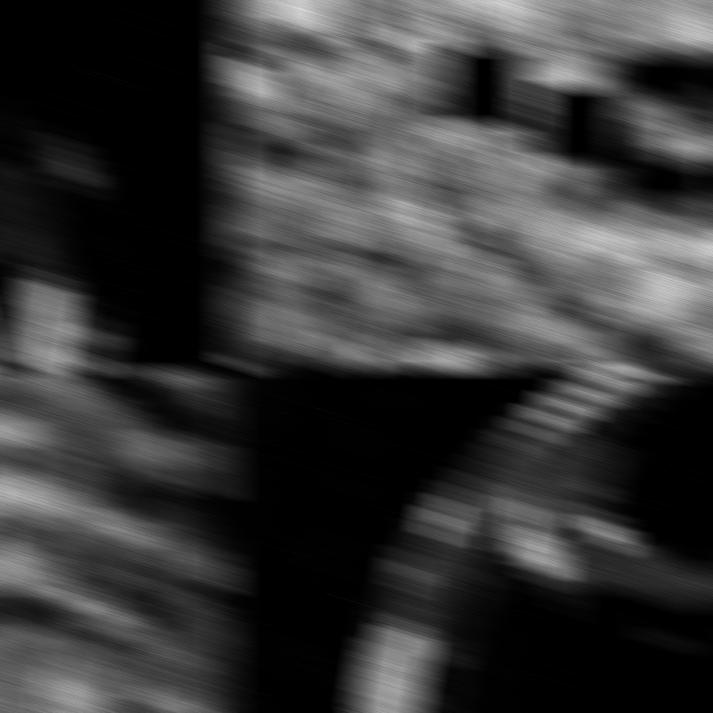Airbag: (220, 0, 713, 372), (220, 368, 713, 713), (0, 0, 235, 372), (0, 368, 235, 713)
